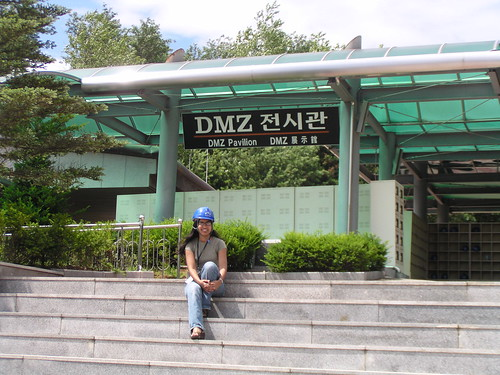person hardhat: (175, 207, 233, 349)
